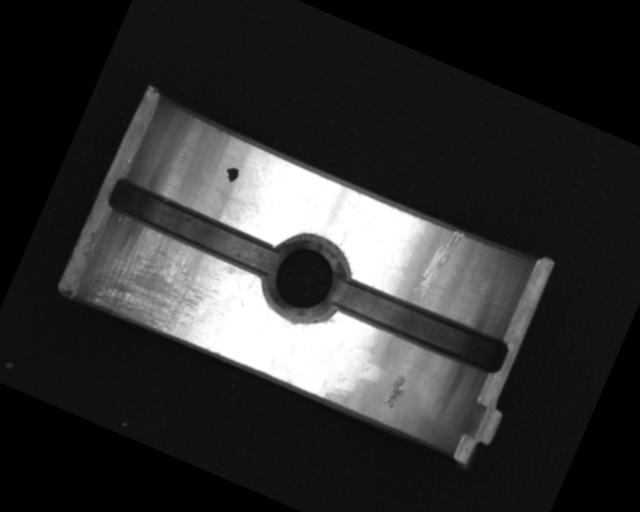blot: (221, 162, 242, 185)
bruise: (379, 370, 412, 412)
gap: (326, 269, 511, 380), (103, 176, 286, 281)
hole: (250, 222, 359, 334)
nick: (412, 224, 465, 303)
scratch: (77, 214, 227, 347)
